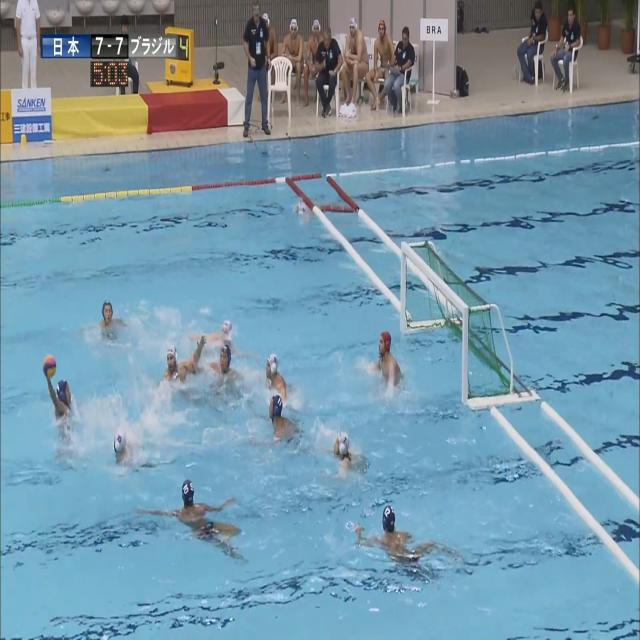ball: (43, 355, 56, 378)
